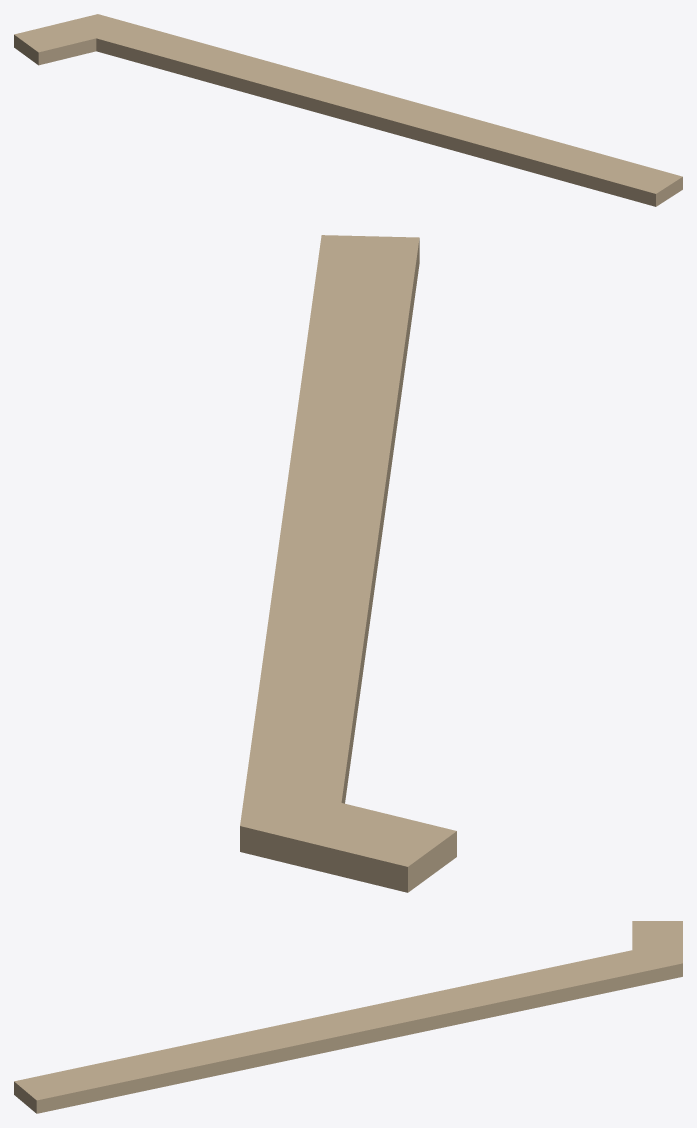
File: west-connector-prefix-city-C.glb
The picture shows the model from 3 angles, top to bottom: view 1: azimuth 30°, elevation 25°; view 2: azimuth 150°, elevation 25°; view 3: azimuth 270°, elevation 25°; orthographic projection. The views are drawn at different scales.
Parts seen in each view (by area): view 1: west-connector-prefix-C; view 2: west-connector-prefix-C; view 3: west-connector-prefix-C.
Part boxes in pixels (x1=…): west-connector-prefix-C: x1=14, y1=14, x2=682, y2=206; west-connector-prefix-C: x1=240, y1=235, x2=456, y2=892; west-connector-prefix-C: x1=14, y1=921, x2=682, y2=1113.
Bounding box in the file's own units: 10.05 × 0.35 × 15.84.
